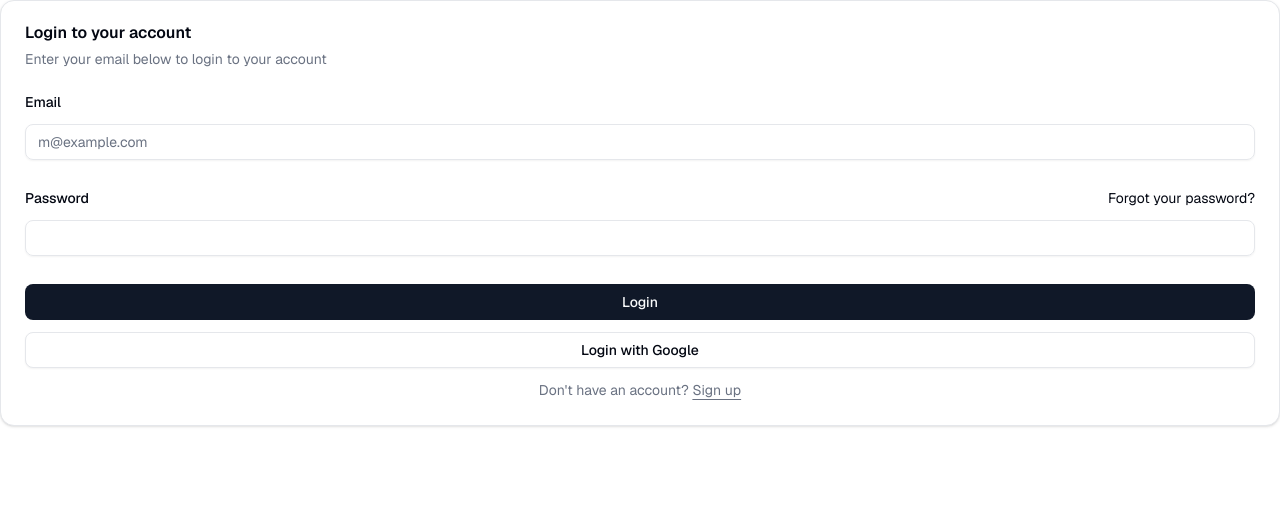
it: LoginForm Component › should show error message on invalid credentials
The image size is (1280, 508).
In the field labelled "Email": (640, 142) [25,124,1255,160], type "test@example.com"
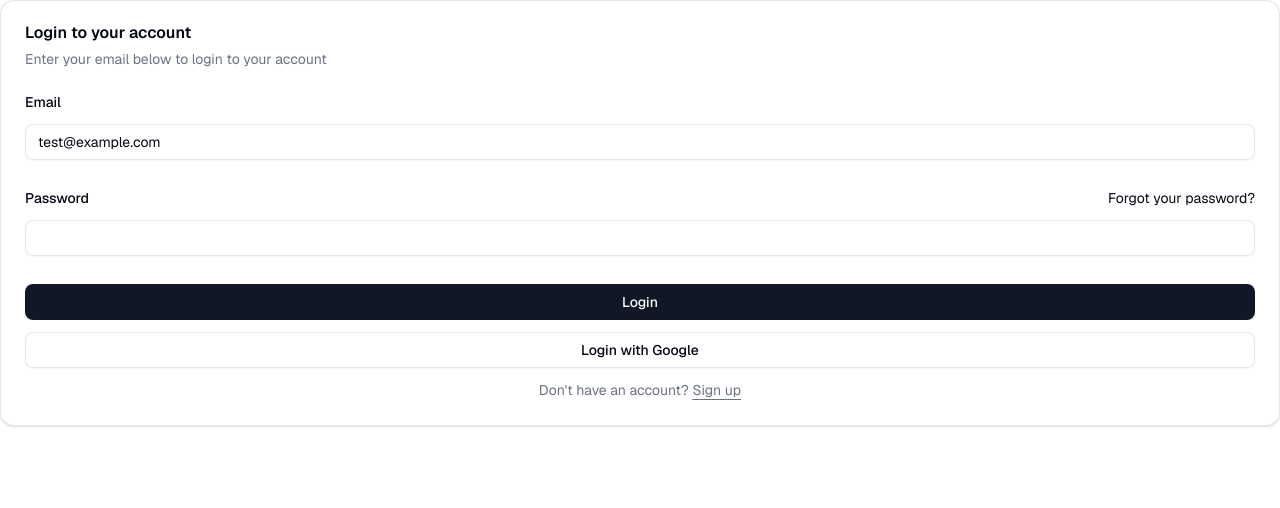
In the password field labelled "Password": (640, 238) [25,220,1255,256], type "wrongpassword"
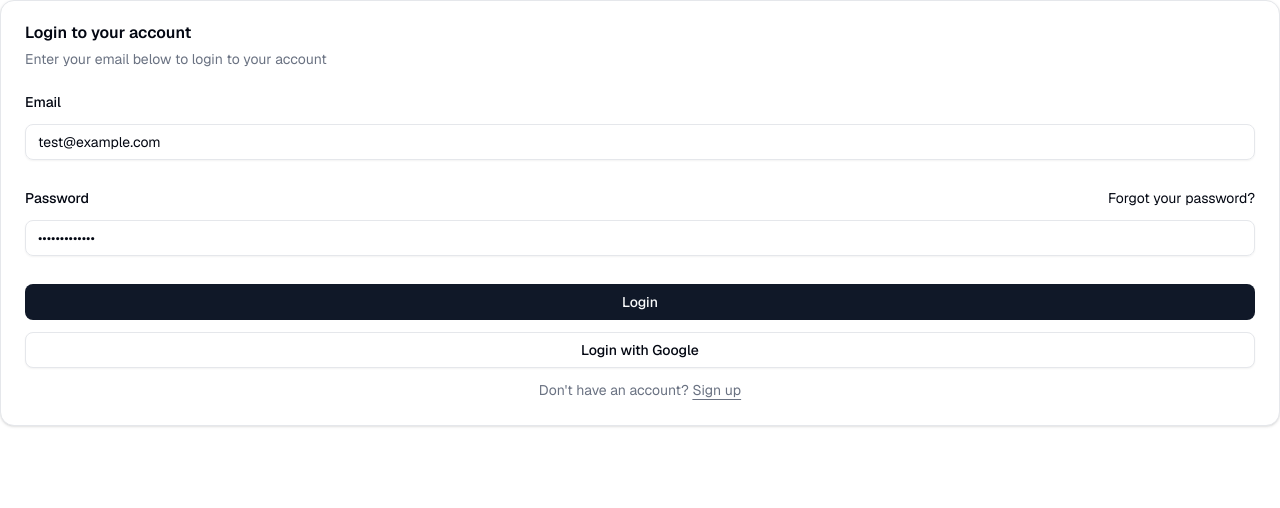
Click the button "Login": (640, 302) [25,284,1255,320]
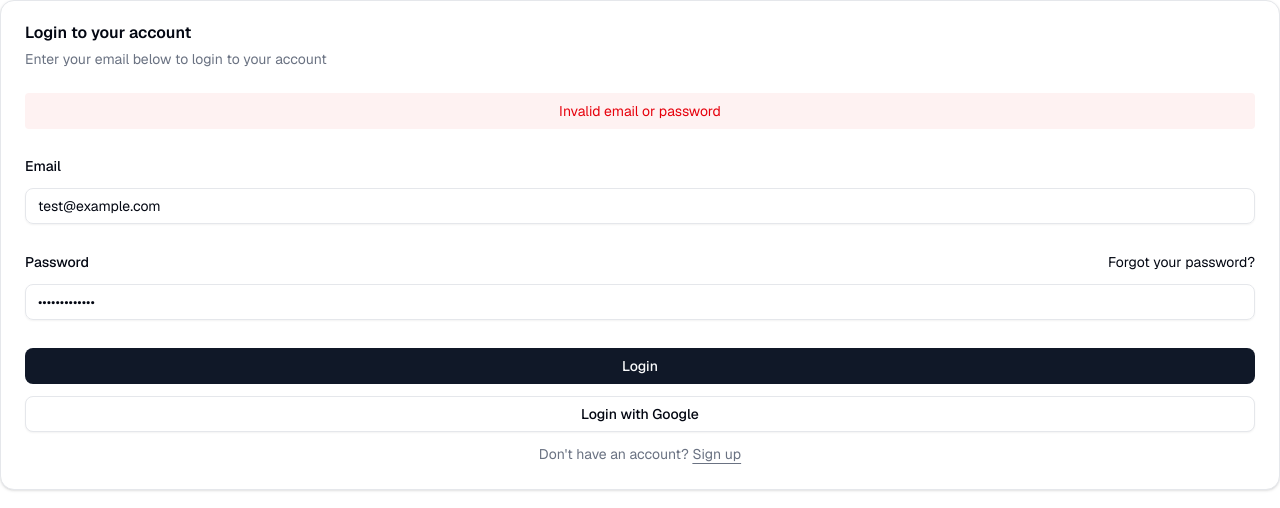
Expected: the text "Invalid email or password" is shown, [25,93,1255,129]
